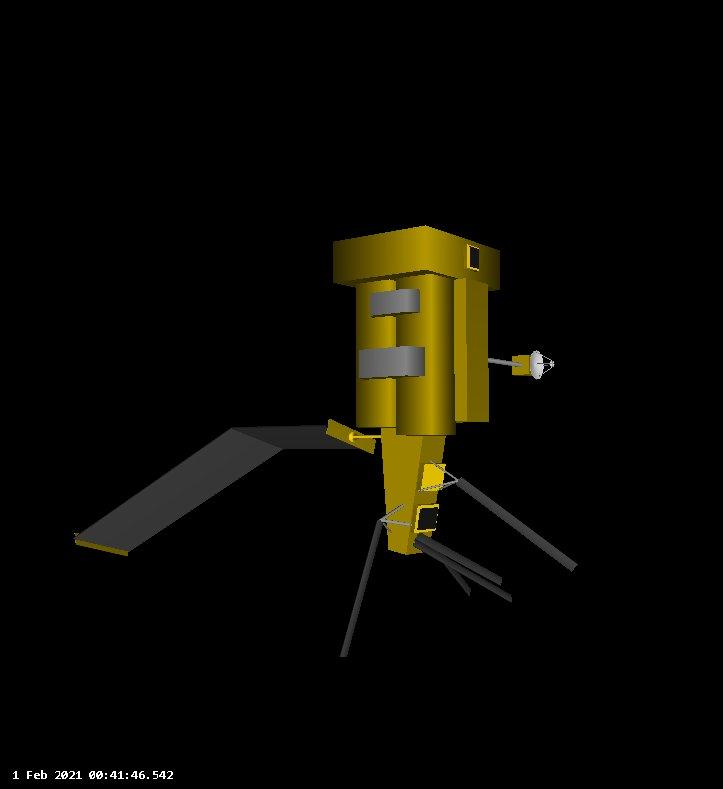antenna: (528, 347, 558, 381)
body: (326, 221, 505, 560)
solar: (71, 417, 381, 560)
